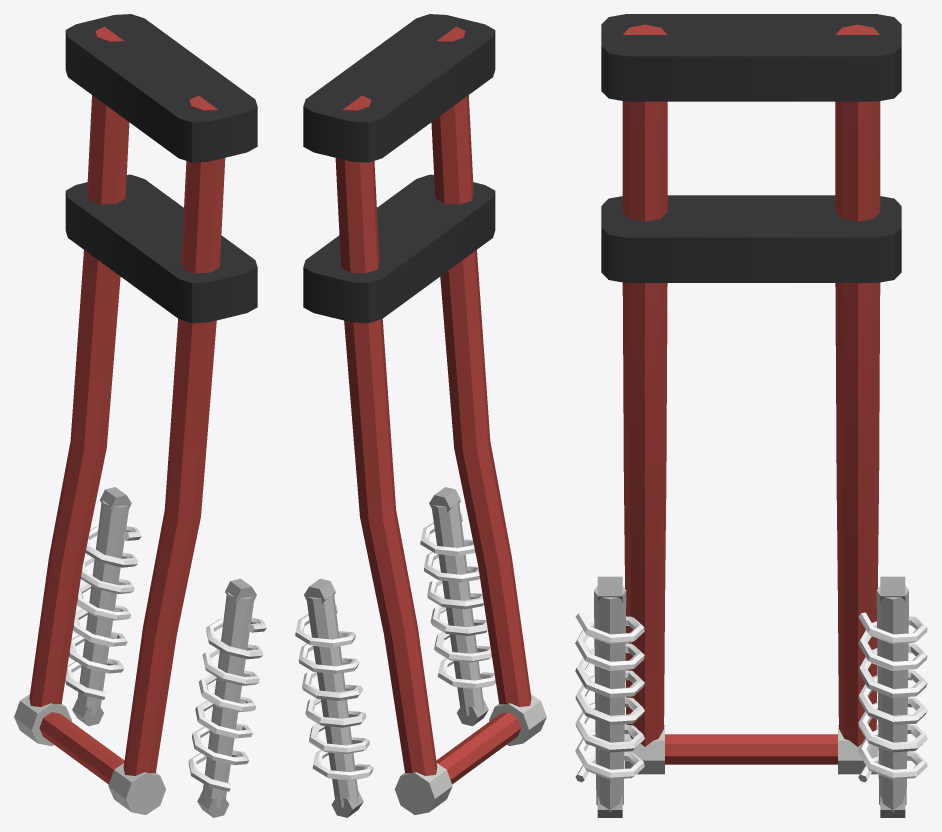
File: classic_leading_link_upper_lod1.glb
The picture shows the model from 3 angles, left to right: view 1: azimuth 30°, elevation 25°; view 2: azimuth 150°, elevation 25°; view 3: azimuth 270°, elevation 25°; orthographic projection. The views are drawn at different scales.
Parts seen in each view (by area): view 1: classic_leading_link_upper_lod1; view 2: classic_leading_link_upper_lod1; view 3: classic_leading_link_upper_lod1.
Part boxes in pixels (bbox=[...]): classic_leading_link_upper_lod1: bbox=[14, 14, 266, 817]; classic_leading_link_upper_lod1: bbox=[295, 14, 546, 817]; classic_leading_link_upper_lod1: bbox=[575, 14, 927, 817].
Bounding box in the file's own units: 0.1362 × 0.694 × 0.282.
